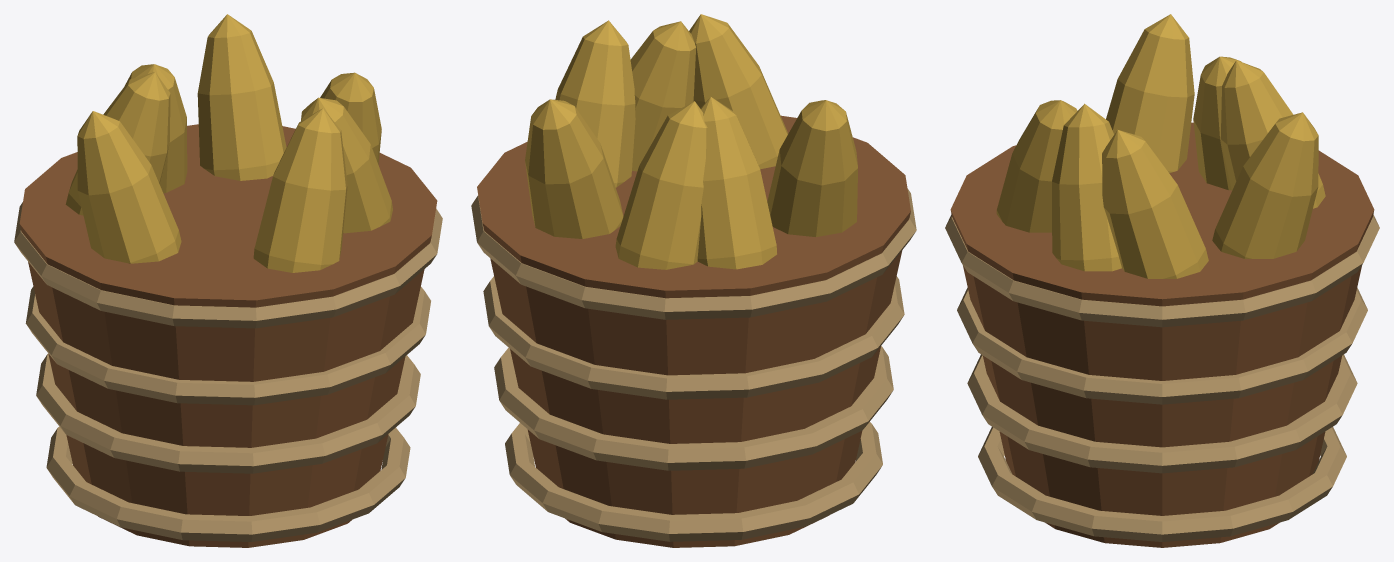
File: grain.glb
The picture shows the model from 3 angles, left to right: view 1: azimuth 30°, elevation 25°; view 2: azimuth 150°, elevation 25°; view 3: azimuth 270°, elevation 25°; orthographic projection. The views are drawn at different scales.
Parts seen in each view (by area): view 1: Cone, Torus.001, Torus, Sphere.003, Sphere.002, Sphere.004, Torus.002, Torus.003, Sphere.005, Sphere.001, Sphere.006, Sphere; view 2: Cone, Torus.001, Torus, Torus.002, Sphere.006, Sphere.003, Torus.003, Sphere.004, Sphere.001, Sphere, Sphere.002, Sphere.005; view 3: Cone, Torus.001, Torus, Torus.002, Sphere, Sphere.003, Torus.003, Sphere.004, Sphere.005, Sphere.002, Sphere.006, Sphere.001.
Boxes of the visible parts, <box> form: Cone: <box>19,124,437,547</box>; Torus.001: <box>36,353,420,473</box>; Torus: <box>46,426,410,541</box>; Sphere.003: <box>197,14,286,180</box>; Sphere.002: <box>253,108,347,272</box>; Sphere.004: <box>77,111,181,263</box>; Torus.002: <box>25,286,430,405</box>; Torus.003: <box>14,202,442,328</box>; Sphere.005: <box>301,97,392,233</box>; Sphere.001: <box>65,72,170,215</box>; Sphere.006: <box>125,64,187,193</box>; Sphere: <box>320,72,381,164</box>; Cone: <box>477,115,910,547</box>; Torus.001: <box>494,346,893,470</box>; Torus: <box>505,422,882,541</box>; Torus.002: <box>483,276,904,399</box>; Sphere.006: <box>615,101,707,269</box>; Sphere.003: <box>525,99,623,238</box>; Torus.003: <box>471,188,916,319</box>; Sphere.004: <box>767,100,857,236</box>; Sphere.001: <box>697,97,776,269</box>; Sphere: <box>555,20,635,187</box>; Sphere.002: <box>689,14,787,169</box>; Sphere.005: <box>630,21,695,171</box>; Cone: <box>950,122,1374,547</box>; Torus.001: <box>967,354,1357,473</box>; Torus: <box>978,427,1346,541</box>; Torus.002: <box>957,288,1367,404</box>; Sphere: <box>1102,130,1208,278</box>; Sphere.003: <box>1212,112,1318,258</box>; Torus.003: <box>945,214,1379,327</box>; Sphere.004: <box>1106,14,1194,173</box>; Sphere.005: <box>1052,103,1121,271</box>; Sphere.002: <box>996,100,1077,232</box>; Sphere.006: <box>1220,60,1325,208</box>; Sphere.001: <box>1193,56,1241,190</box>.
Size of the model in its own units: 0.431 by 0.4433 by 0.431.
